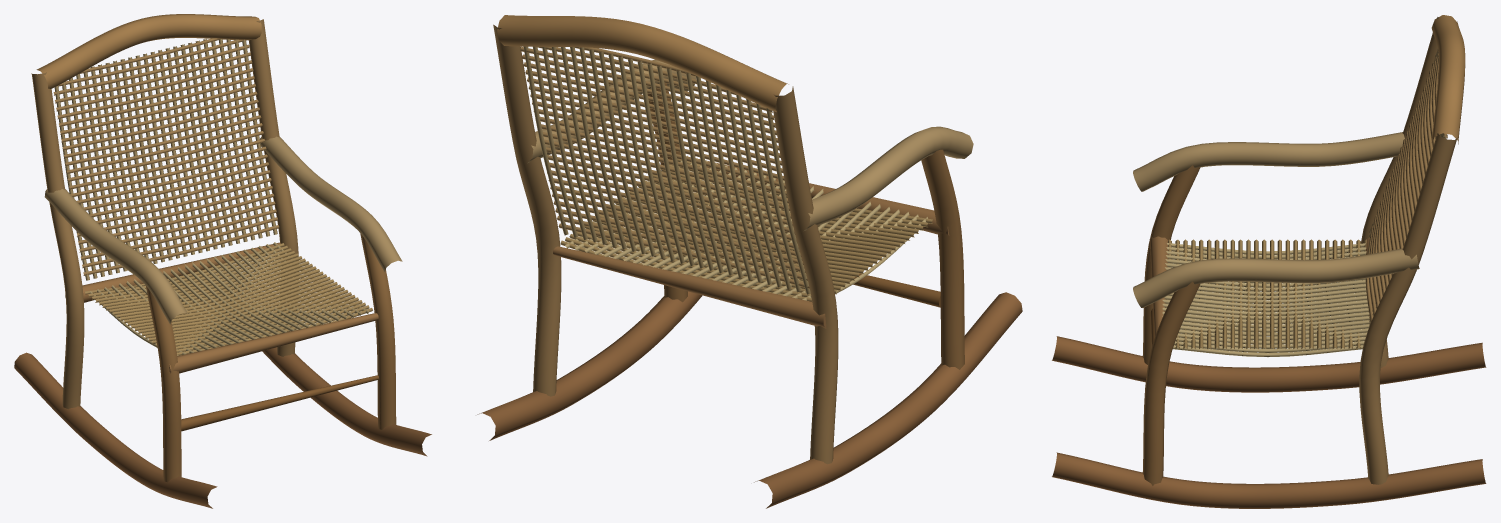
The model's file is rocking-chair.glb.
3 views of the same model, side by side, from view 1: azimuth 30°, elevation 25°; view 2: azimuth 150°, elevation 25°; view 3: azimuth 270°, elevation 25° (orthographic). The views are drawn at different scales.
Visible parts, largest first — view 1: rocking-chair-wood; view 2: rocking-chair-wood; view 3: rocking-chair-wood.
Part boxes in pixels (x1,y1,x2,y2): rocking-chair-wood: (14, 14, 431, 508); rocking-chair-wood: (477, 15, 1022, 508); rocking-chair-wood: (1052, 15, 1486, 508).
Bounding box in the file's own units: 1.22 × 1.8 × 1.77.
